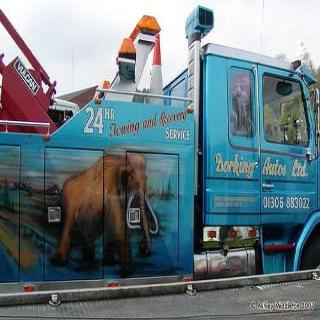Towing_truck: (1, 5, 318, 292)
